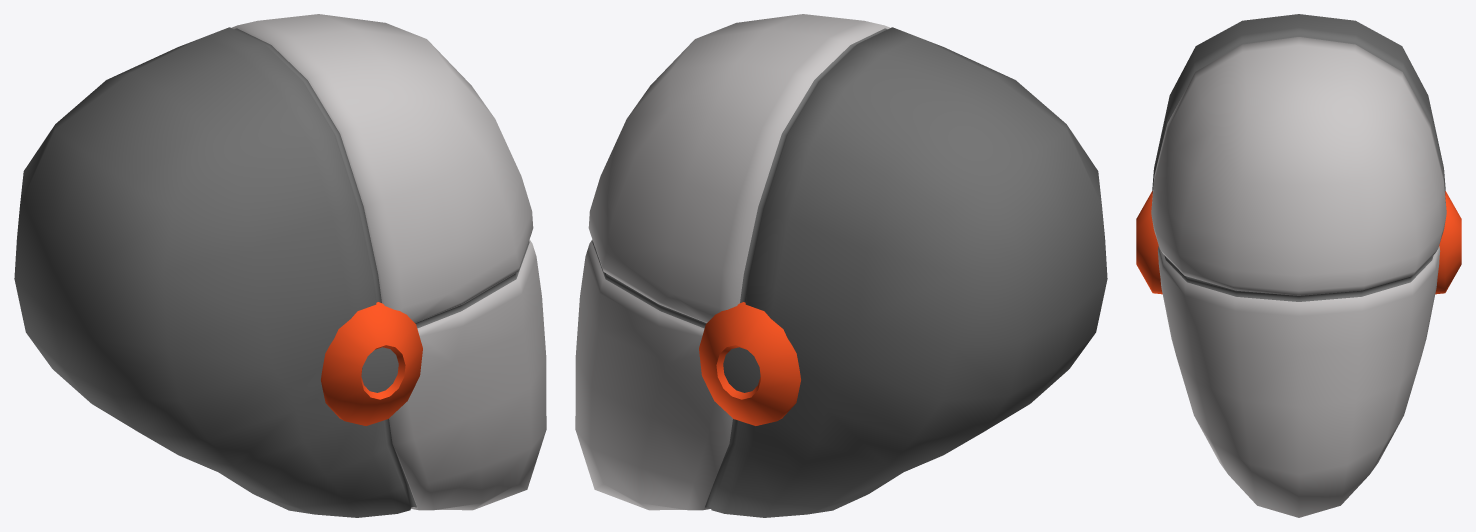
The model's file is xsens_Head.dae.
3 views of the same model, side by side, from view 1: azimuth 30°, elevation 25°; view 2: azimuth 150°, elevation 25°; view 3: azimuth 270°, elevation 25° (orthographic). The views are drawn at different scales.
Parts seen in each view (by area): view 1: Head; view 2: Head; view 3: Head.
Boxes of the visible parts, bbox=[...] form: Head: bbox=[14, 14, 546, 517]; Head: bbox=[575, 14, 1107, 517]; Head: bbox=[1136, 14, 1461, 517].
Bounding box in the file's own units: 0.2008 × 0.1499 × 0.1999.
